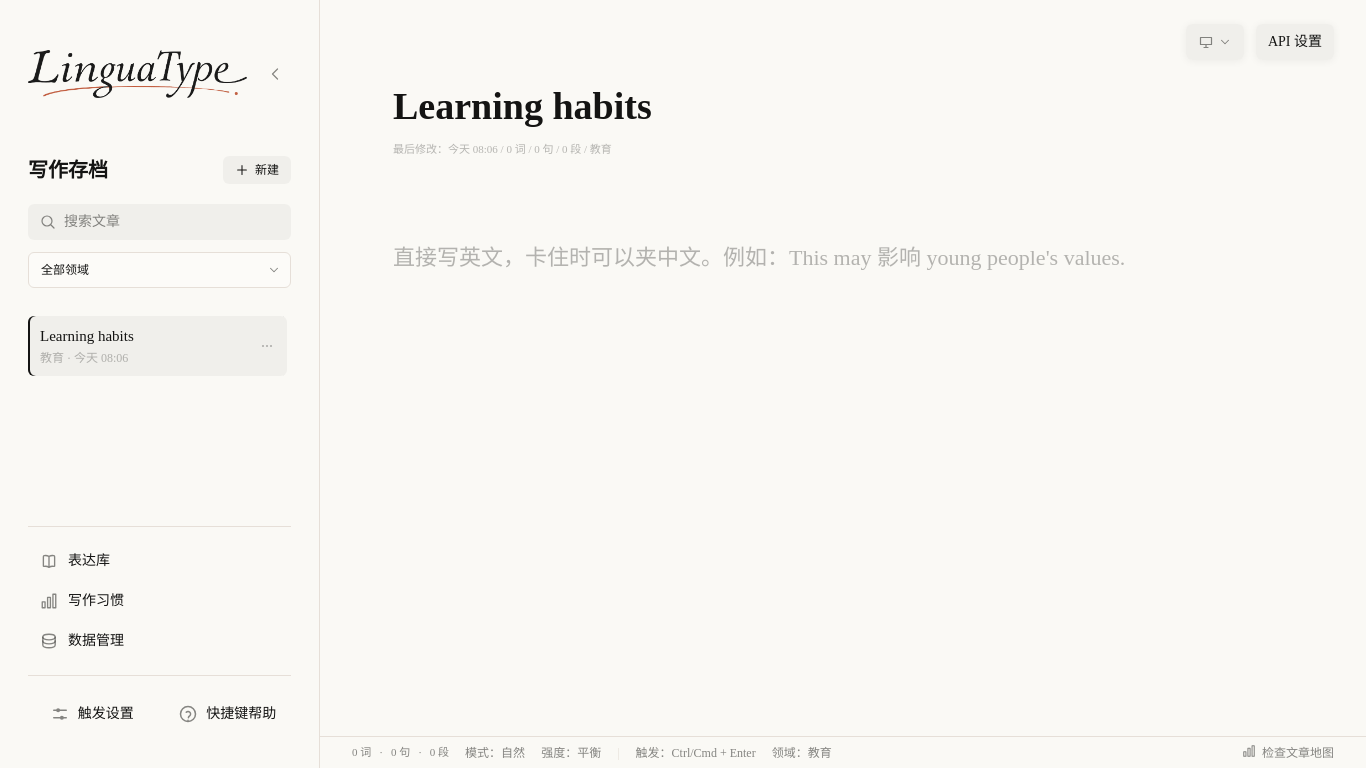
Test: Chinese placeholder writing flow › does not repeat a whole Chinese sentence inside the inline learning card
The image size is (1366, 768).
Type "Although digital transformation improved efficiency. 我觉得我这个会火。" into the text box named "写作编辑器" at (843, 493), box [393, 233, 1293, 753]
Wait 800 ms
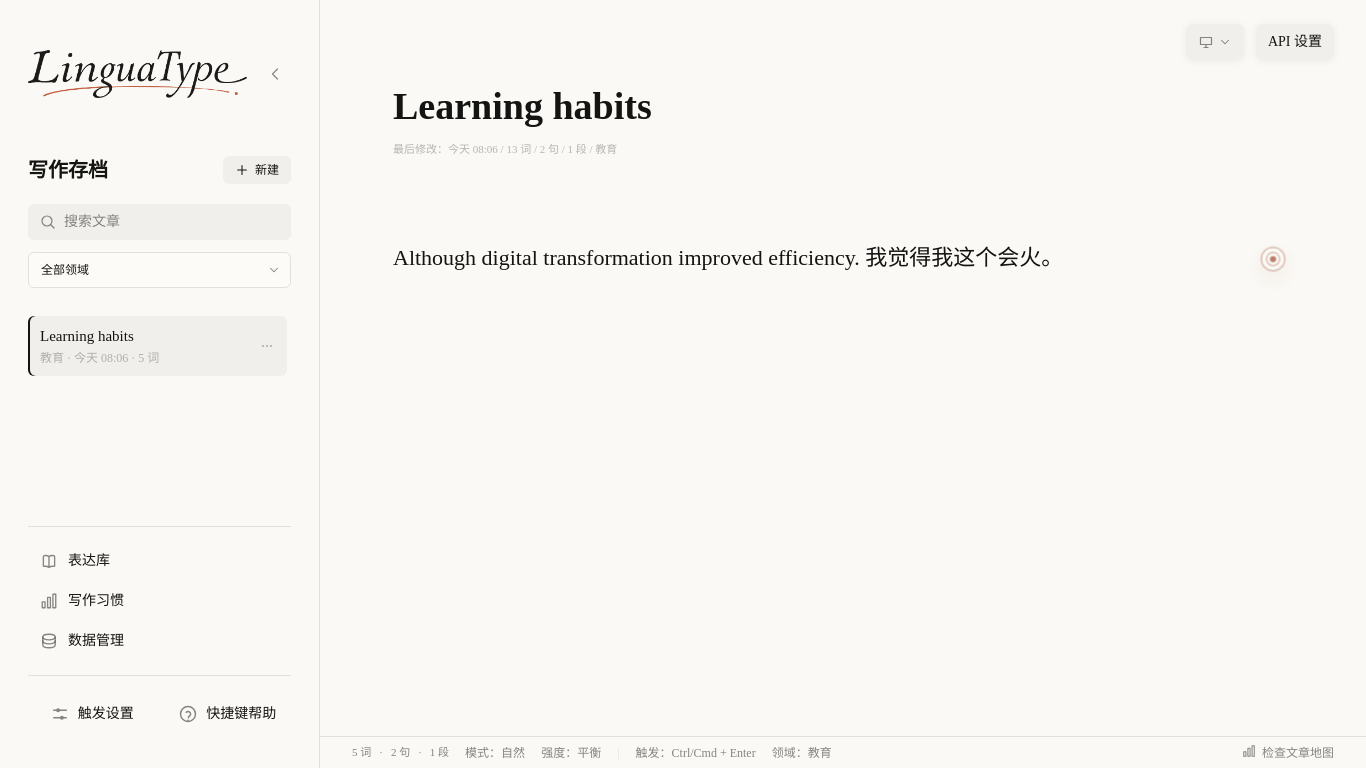
Click the button named "查看当前 AI 建议" at (1273, 259), box [1261, 246, 1285, 271]
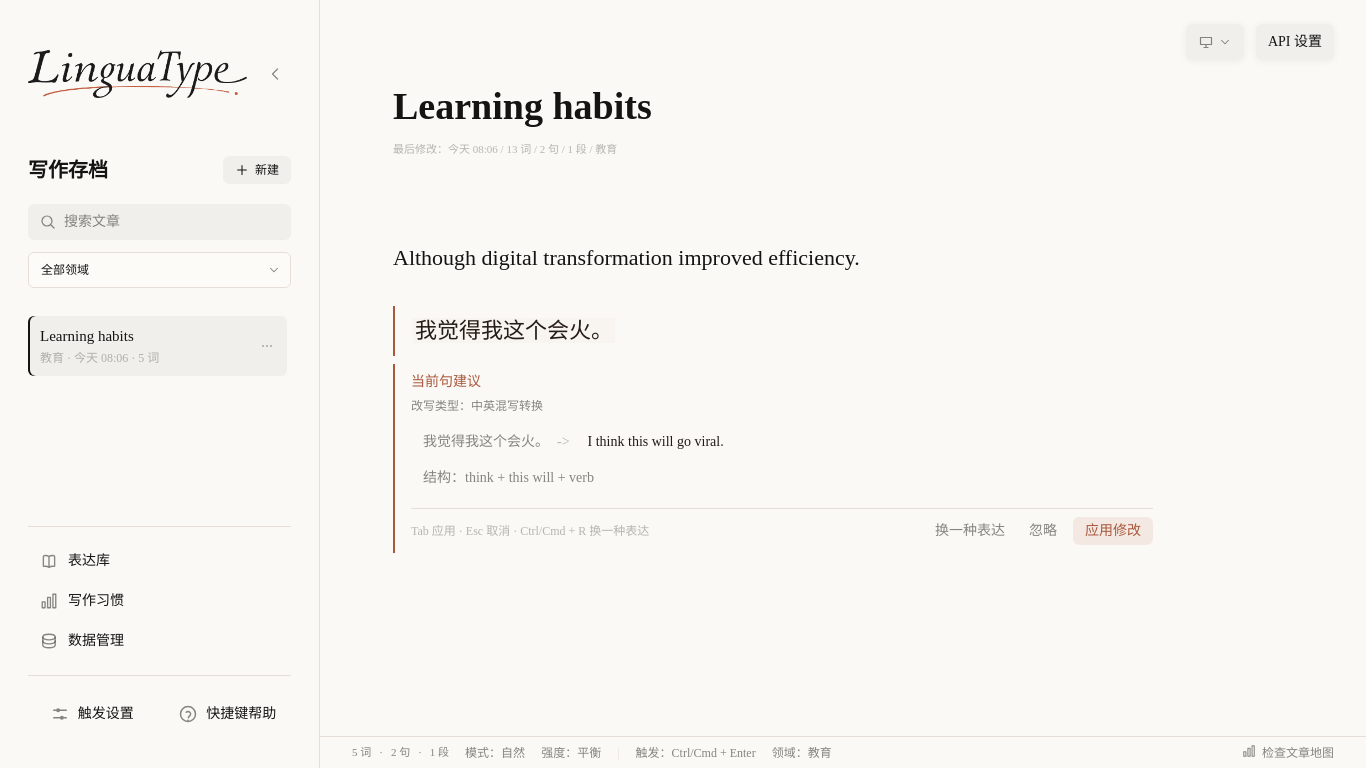
Now the element named "当前句行内建议" is shown, box [393, 364, 1153, 553]
Now the element named "AI 建议句子焦点" reads "我觉得我这个会火。", box [415, 318, 613, 343]
Now the text named "原句改动" is shown, box [413, 318, 615, 343]
